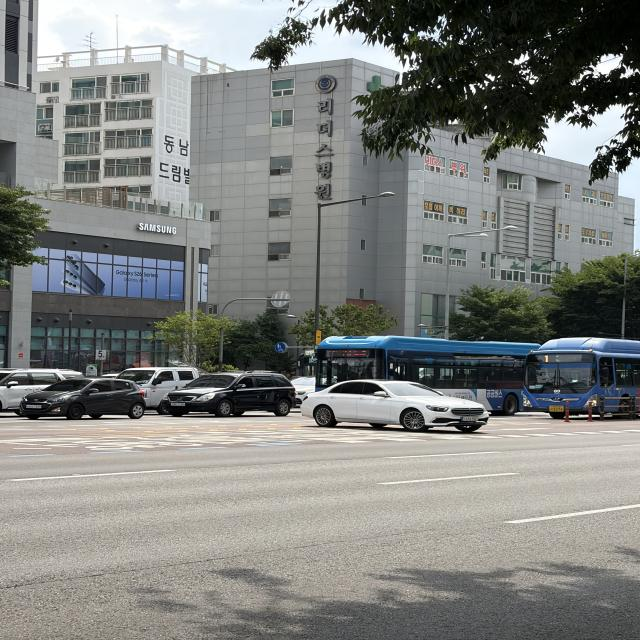car: (314, 330, 581, 423), (291, 368, 509, 451), (511, 330, 640, 425), (156, 366, 302, 427), (13, 372, 150, 429)
